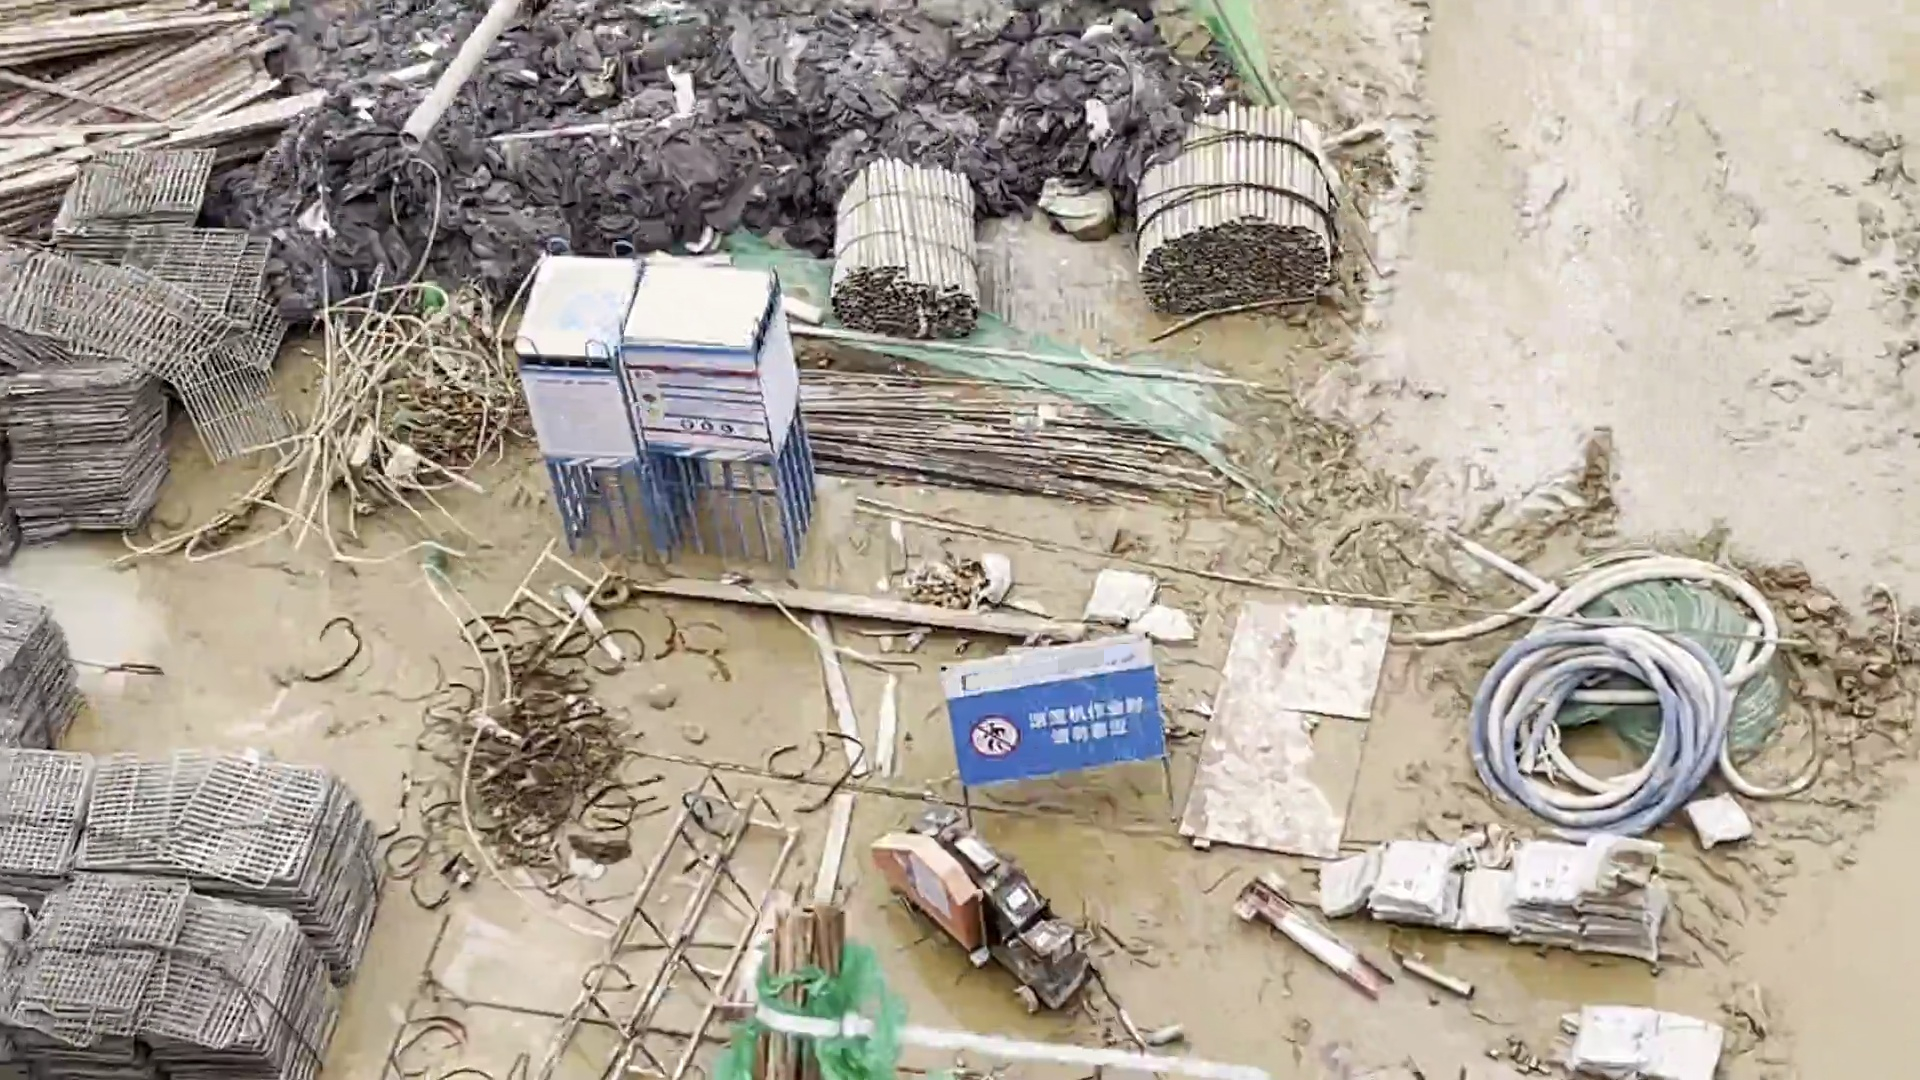scaffold: (1127, 103, 1341, 322), (829, 165, 1000, 345)
wood: (5, 8, 303, 171)
